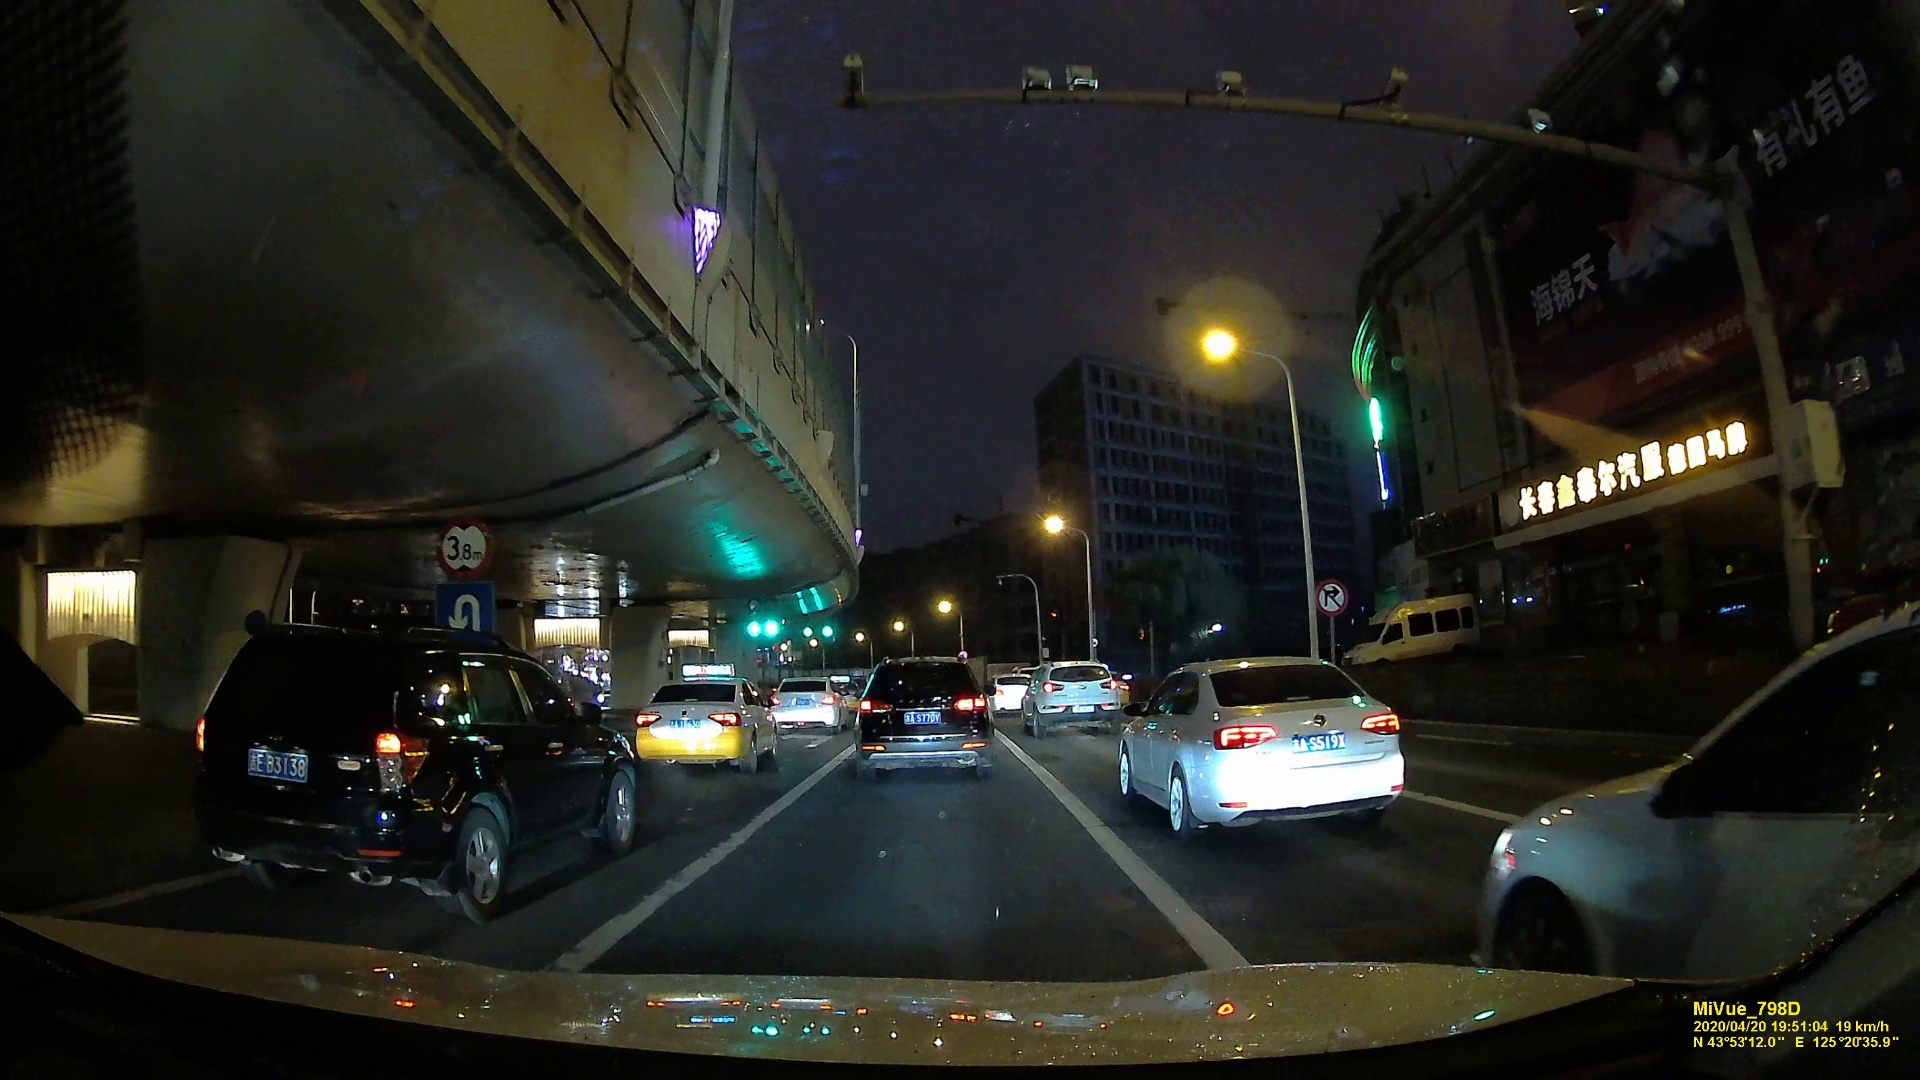minibus: (1342, 593, 1476, 669)
traffic_sign: (435, 582, 493, 636), (436, 518, 485, 578), (1319, 579, 1348, 617), (745, 603, 764, 636), (762, 603, 781, 634)
vehicle: (1491, 601, 1915, 986), (190, 632, 636, 913), (1109, 653, 1415, 839), (848, 655, 996, 781), (636, 675, 781, 771), (1015, 657, 1117, 729), (771, 676, 845, 735)
